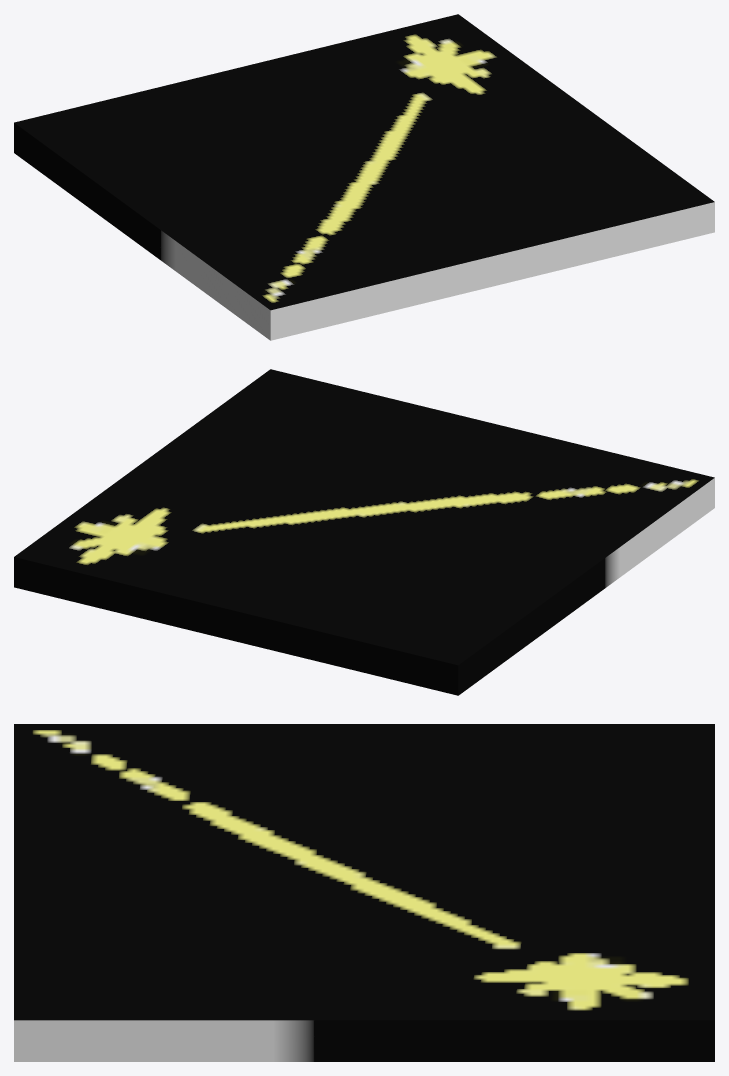
File: CharSkyKid_Prop_MoonlightMural_Star02.glb
3 renders of one model, top to bottom at view 1: azimuth 30°, elevation 25°; view 2: azimuth 150°, elevation 25°; view 3: azimuth 270°, elevation 25°, orthographic. The views are drawn at different scales.
Parts seen in each view (by area): view 1: CharSkyKid_Prop_MoonlightMural_Star02; view 2: CharSkyKid_Prop_MoonlightMural_Star02; view 3: CharSkyKid_Prop_MoonlightMural_Star02.
Part boxes in pixels (box(x1,y1,x2,y2)): CharSkyKid_Prop_MoonlightMural_Star02: box(14, 14, 714, 340); CharSkyKid_Prop_MoonlightMural_Star02: box(14, 369, 714, 695); CharSkyKid_Prop_MoonlightMural_Star02: box(14, 724, 714, 1061).
Size of the model in its own units: 1 by 0.0654 by 1.
1 material, 1 textured.
